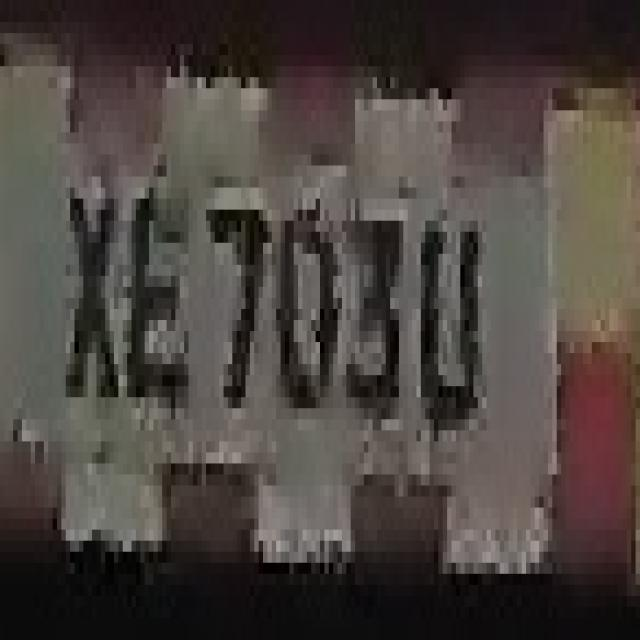0: (263, 165, 333, 452)
3: (338, 176, 412, 442)
7: (198, 154, 268, 442)
E: (118, 144, 193, 430)
U: (412, 154, 487, 452)
X: (52, 110, 122, 420)
